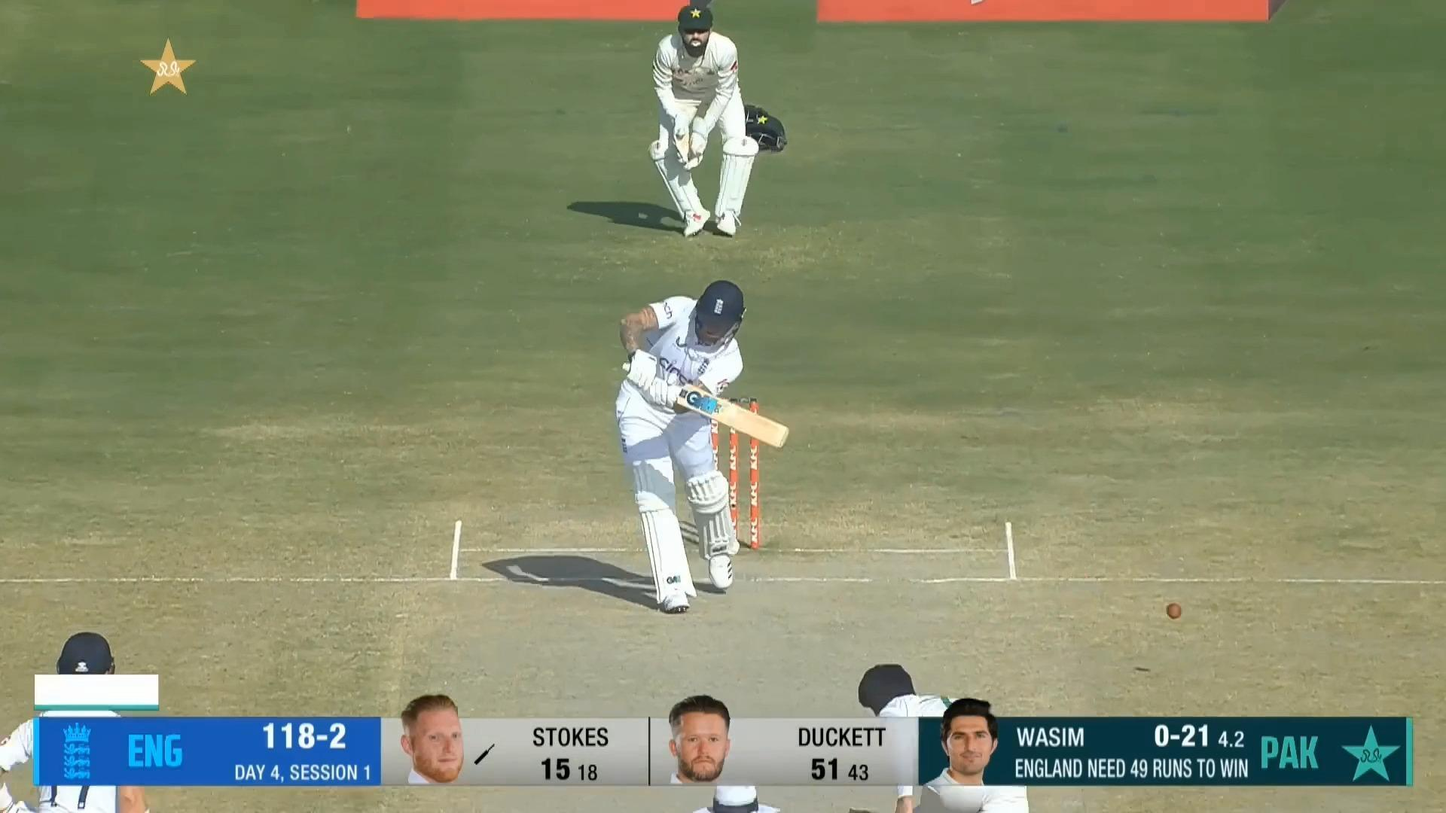BM 1: (614, 279, 791, 614)
BO: (857, 662, 1031, 813)
